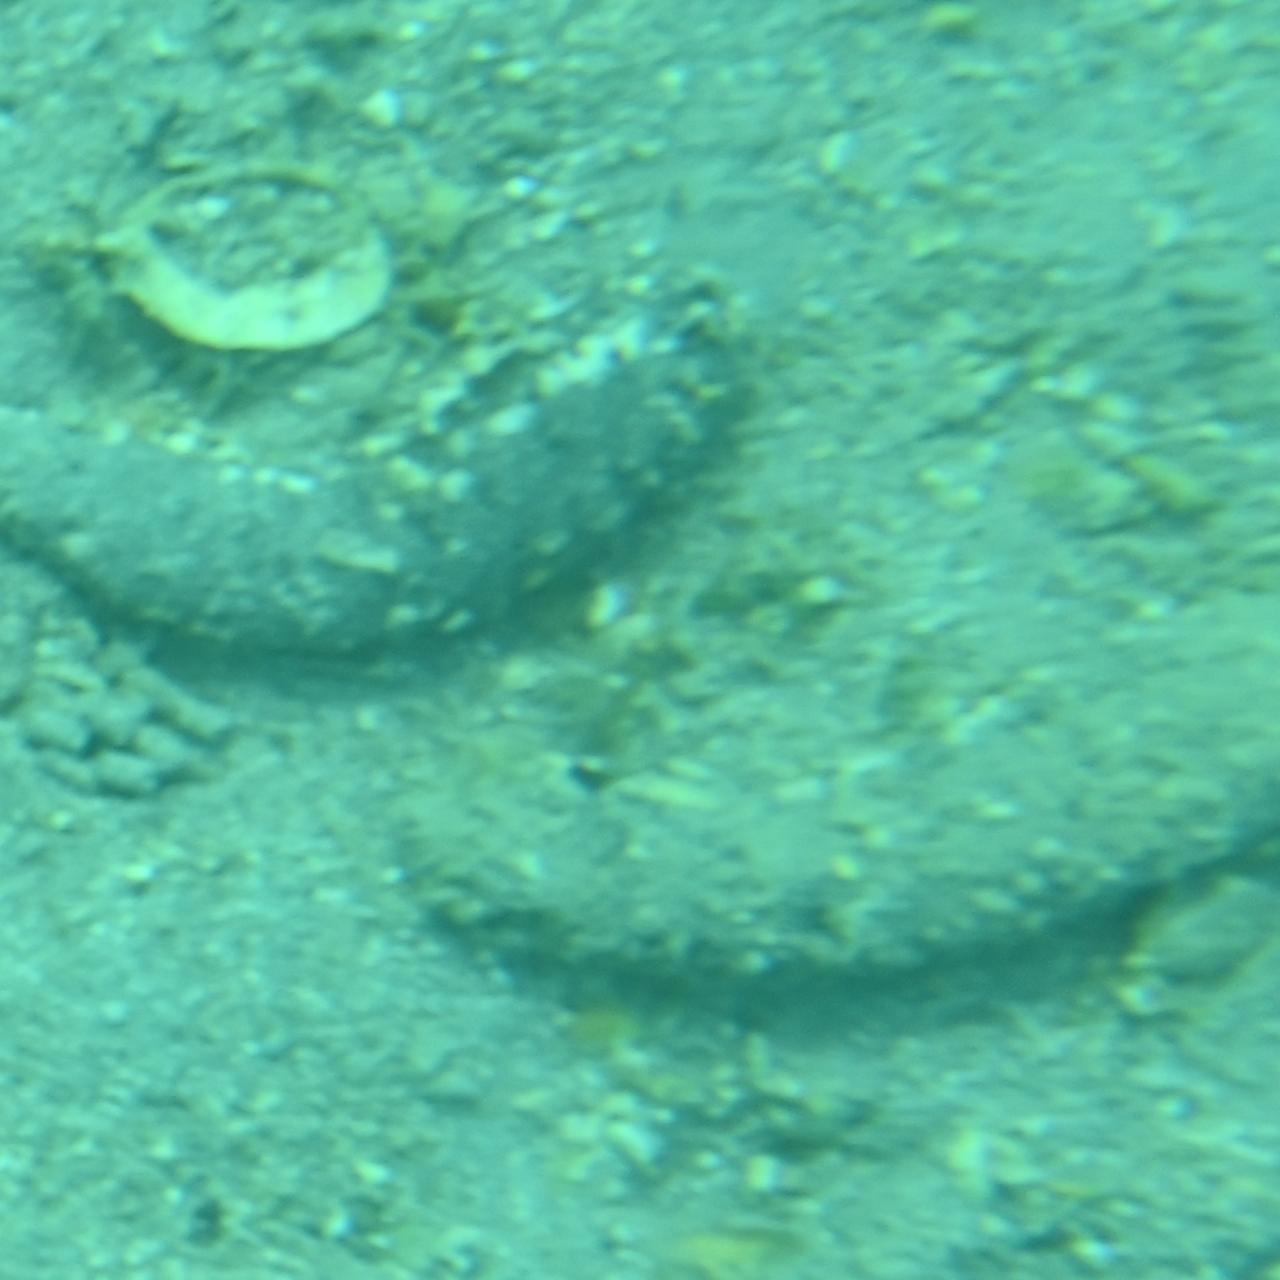Holothuria tubulosa: (386, 584, 1280, 992), (0, 295, 761, 692)
